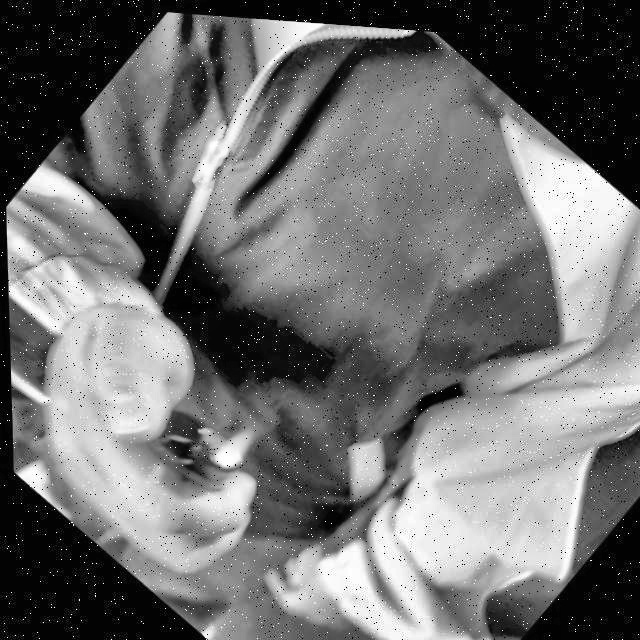Fire: (207, 417, 259, 474)
